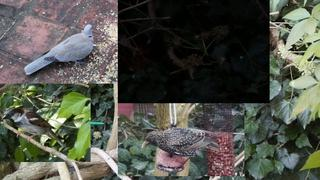collared dove: (24, 24, 94, 75)
sparrow: (2, 108, 67, 148)
starling: (142, 127, 220, 157)
